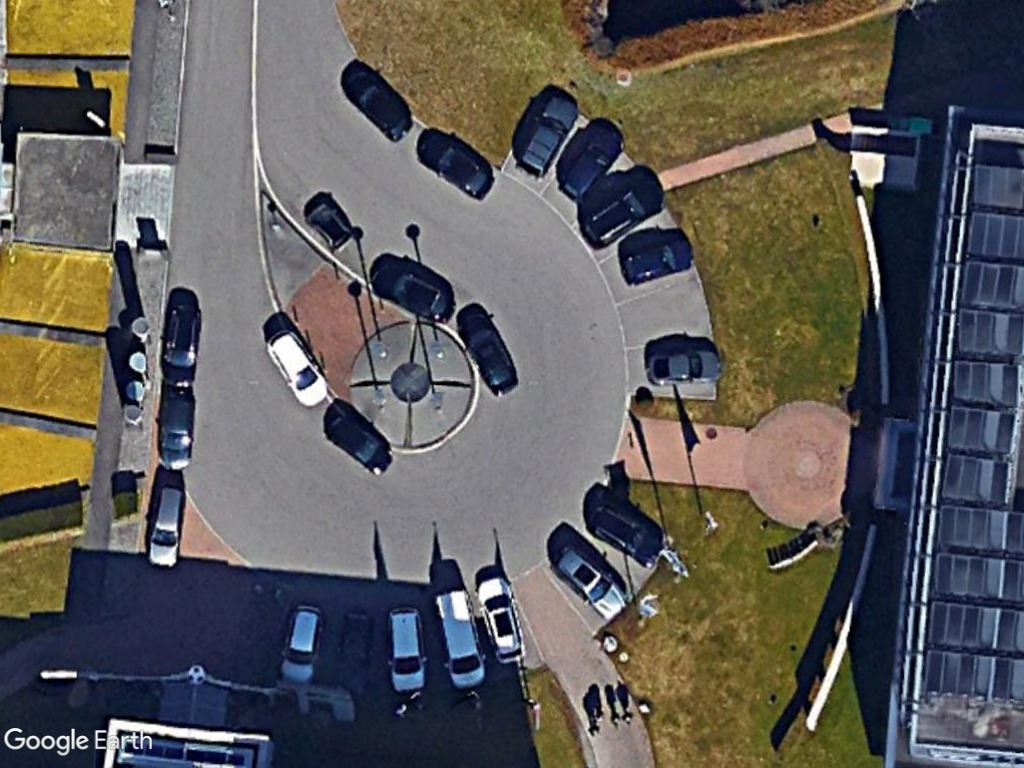car: (552, 539, 628, 623), (262, 328, 331, 411), (516, 94, 579, 182), (476, 568, 526, 667), (279, 601, 327, 689), (144, 478, 186, 573), (387, 602, 427, 697), (646, 348, 726, 388)
van: (431, 587, 488, 689)
